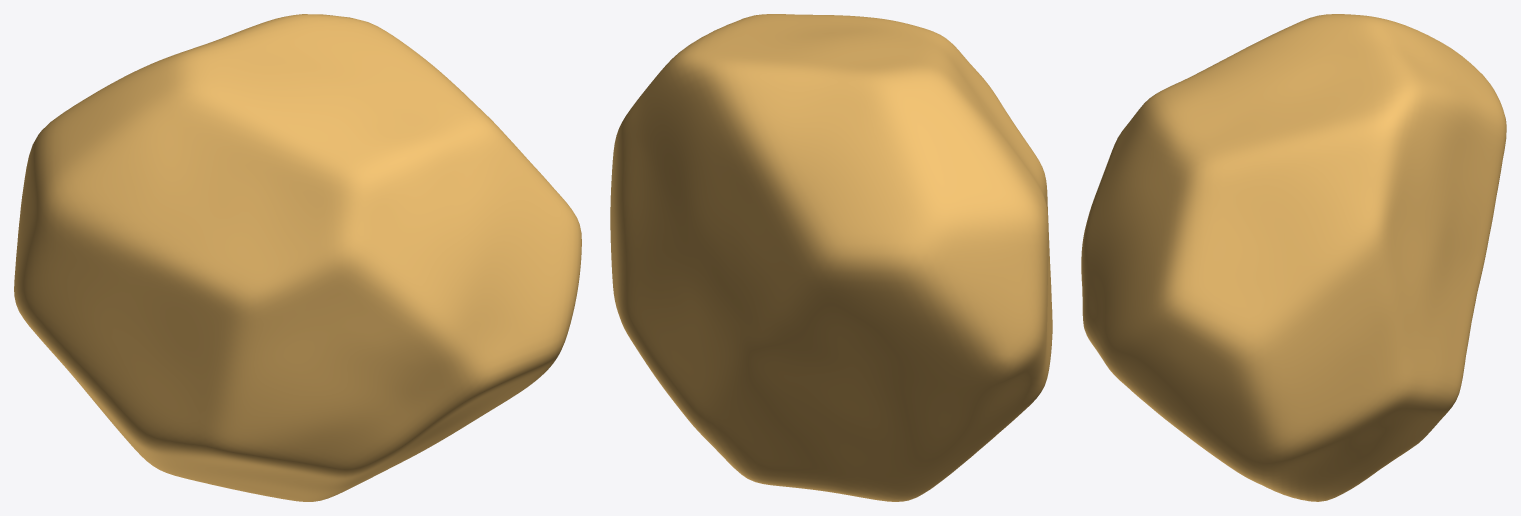
The model's file is nugget-03.glb.
The picture shows the model from 3 angles, left to right: view 1: azimuth 30°, elevation 25°; view 2: azimuth 150°, elevation 25°; view 3: azimuth 270°, elevation 25°; orthographic projection. The views are drawn at different scales.
Parts seen in each view (by area): view 1: nugget-03; view 2: nugget-03; view 3: nugget-03.
Boxes of the visible parts, x1,y1,x2,y2 form: nugget-03: [14, 14, 581, 501]; nugget-03: [610, 14, 1052, 501]; nugget-03: [1081, 14, 1506, 501].
Size of the model in its own units: 3.7 by 3.3 by 3.05.
